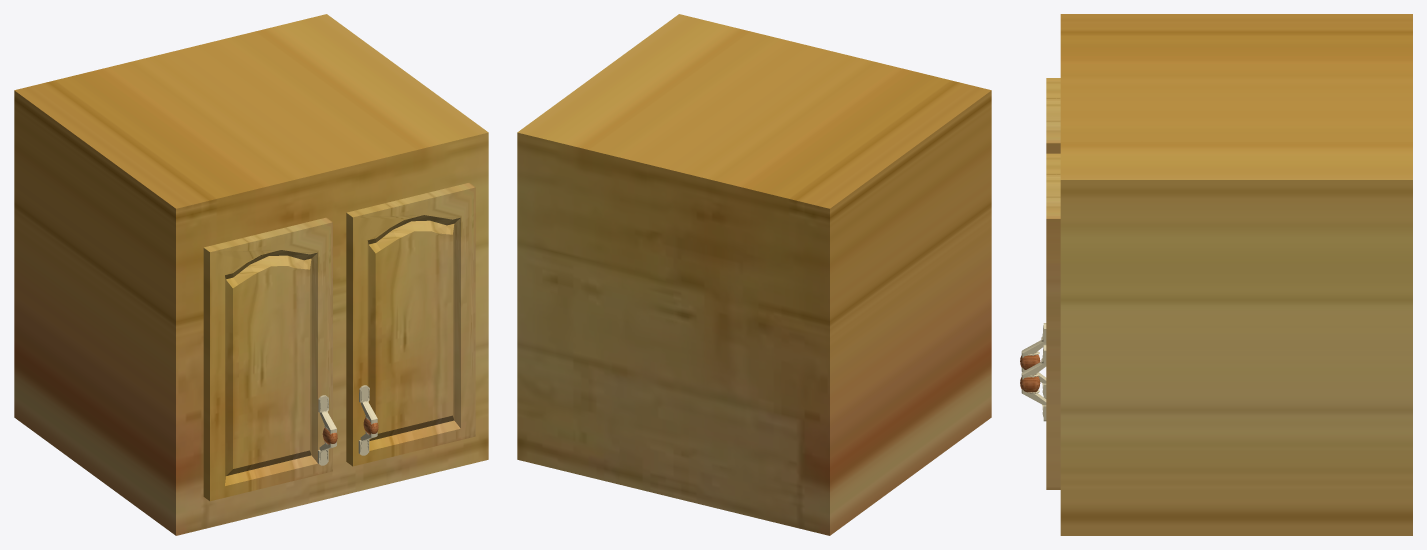
The model's file is sh-contrib-2-door-upper-cabinet.glb.
3 views of the same model, side by side, from view 1: azimuth 30°, elevation 25°; view 2: azimuth 150°, elevation 25°; view 3: azimuth 270°, elevation 25° (orthographic). The views are drawn at different scales.
Parts seen in each view (by area): view 1: Curvedtopcabinet, Tube_1_6; view 2: Curvedtopcabinet; view 3: Curvedtopcabinet, Tube_1_6, PolyMesh_1_3.
Boxes of the visible parts, bbox=[...] form: Curvedtopcabinet: bbox=[14, 14, 488, 535]; Tube_1_6: bbox=[317, 385, 377, 465]; Curvedtopcabinet: bbox=[517, 14, 991, 535]; Curvedtopcabinet: bbox=[1046, 14, 1412, 535]; Tube_1_6: bbox=[1021, 323, 1046, 421]; PolyMesh_1_3: bbox=[1020, 353, 1040, 392].
Size of the model in its own units: 1 by 1 by 1.
Materials: 3 (2 with a texture image).
